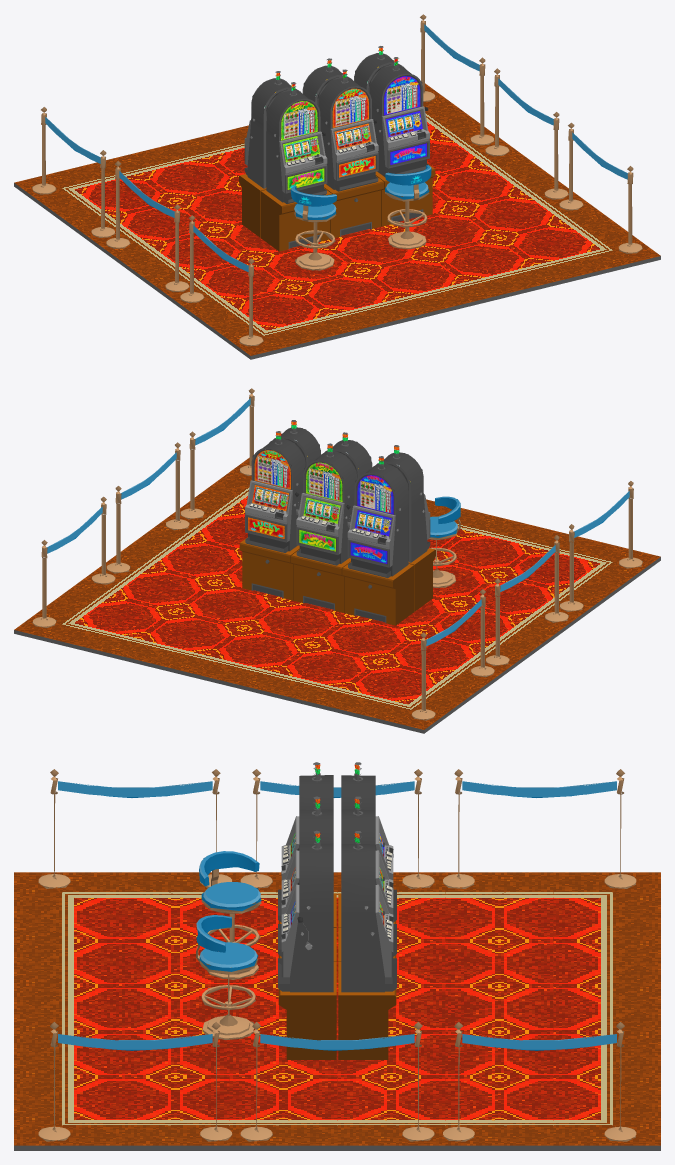
The model's file is slot_machines.glb.
3 views of the same model, one above another, from view 1: azimuth 30°, elevation 25°; view 2: azimuth 150°, elevation 25°; view 3: azimuth 270°, elevation 25° (orthographic). The views are drawn at different scales.
Visible parts, largest first — view 1: mesh_chair_019; view 2: mesh_chair_019; view 3: mesh_chair_019.
Boxes of the visible parts, box(x1,y1,x2,y2) form: mesh_chair_019: box(14, 14, 660, 359); mesh_chair_019: box(14, 388, 660, 733); mesh_chair_019: box(14, 762, 660, 1150).
Size of what is drawn, in the model's own units: 6 by 2.21 by 6.
5 materials, 5 textured.
